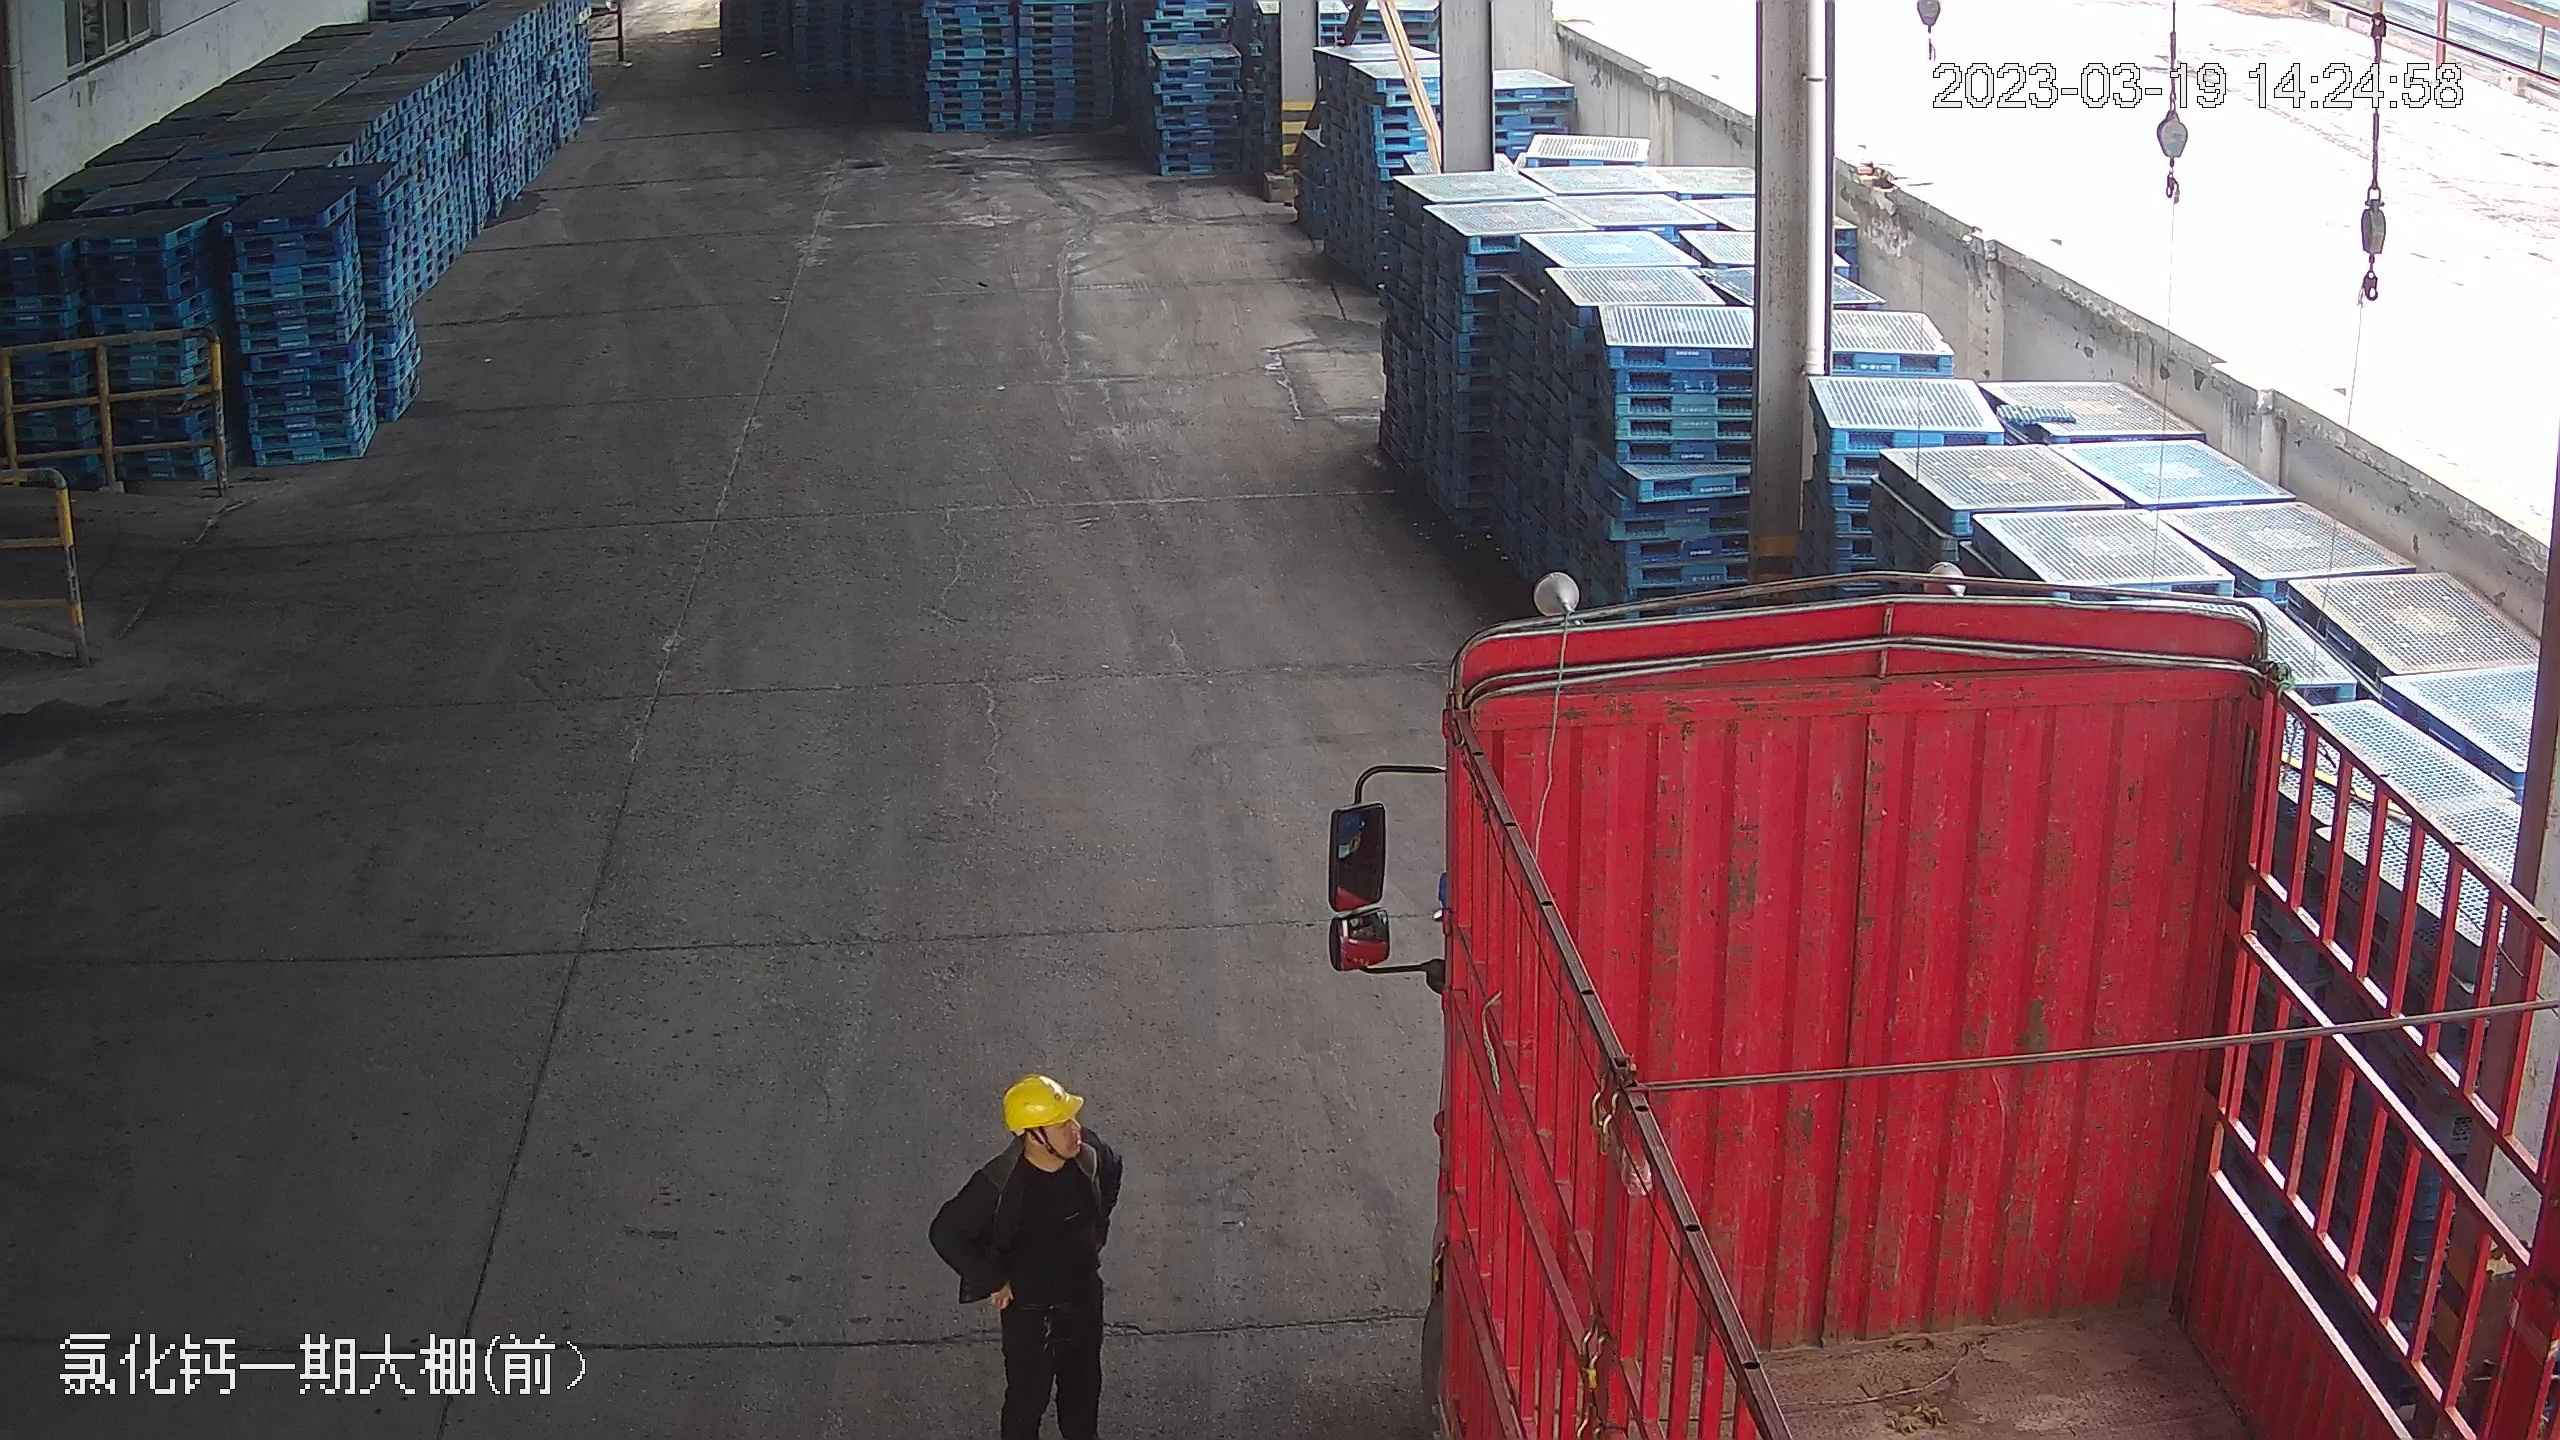head: (965, 1071, 1117, 1211)
helmet: (999, 1070, 1082, 1131)
people: (936, 1067, 1125, 1430)
truck: (1380, 540, 2551, 1440)
